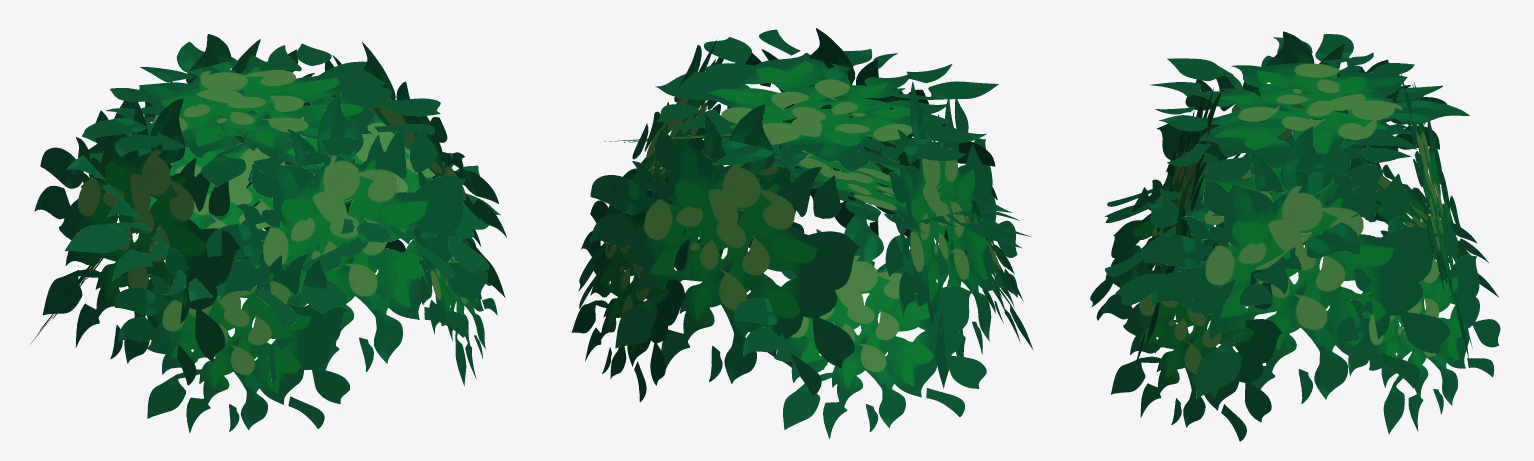
File: SM_FBush.fbx
3 renders of one model, left to right at view 1: azimuth 30°, elevation 25°; view 2: azimuth 150°, elevation 25°; view 3: azimuth 270°, elevation 25°, orthographic. The views are drawn at different scales.
Visible parts, largest first — view 1: Fbush; view 2: Fbush; view 3: Fbush.
Part boxes in pixels (box(x1,y1,x2,y2)): Fbush: box(30, 34, 506, 433); Fbush: box(571, 28, 1033, 438); Fbush: box(1090, 31, 1500, 441).
Bounding box in the file's own units: 211 × 142 × 185.
Materials: 1 (1 with a texture image).
